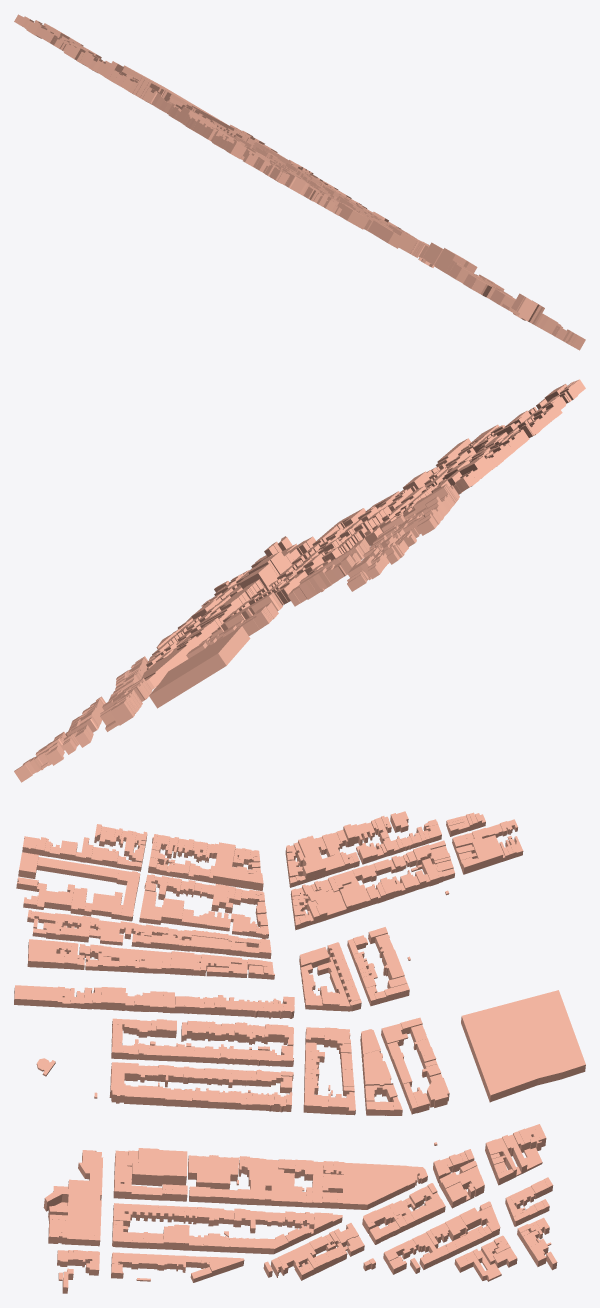
3 views of the same model, one above another, from view 1: azimuth 30°, elevation 25°; view 2: azimuth 150°, elevation 25°; view 3: azimuth 270°, elevation 25° (orthographic). The views are drawn at different scales.
Bounding box in the file's own units: 546 × 397 × 686.
